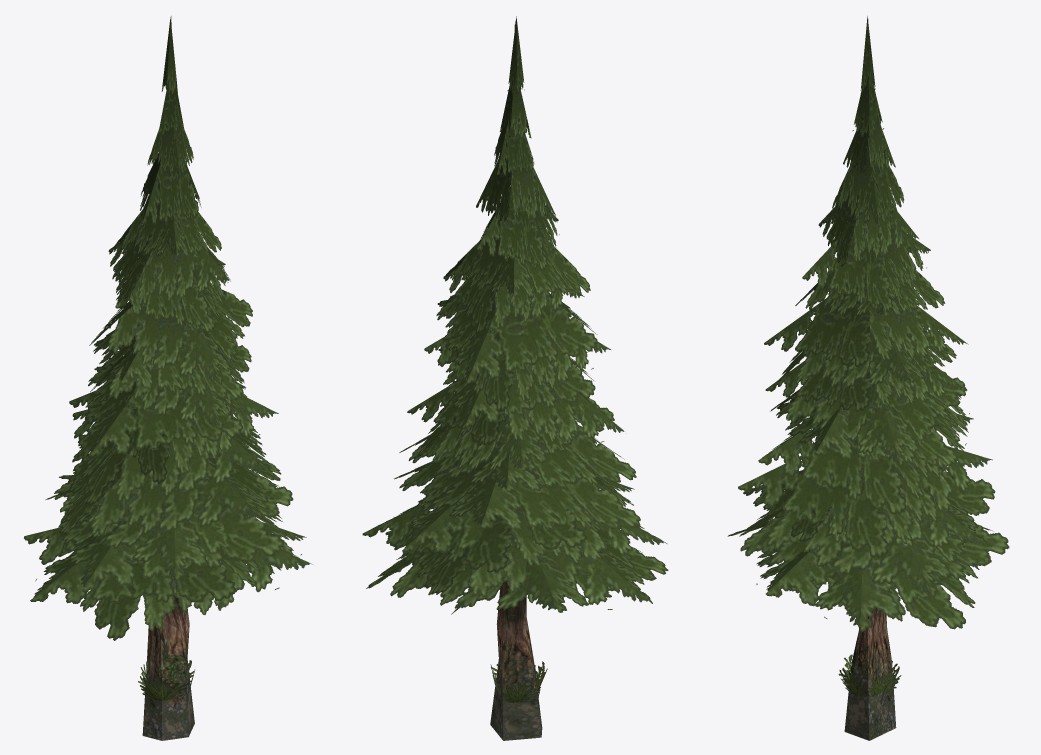
The model's file is C1SNPNB.obj.
3 renders of one model, left to right at view 1: azimuth 30°, elevation 25°; view 2: azimuth 150°, elevation 25°; view 3: azimuth 270°, elevation 25°, orthographic.
Visible parts, largest first — view 1: Node 0; view 2: Node 0; view 3: Node 0.
Boxes of the visible parts, x1,y1,x2,y2 form: Node 0: [24, 16, 312, 740]; Node 0: [362, 16, 668, 740]; Node 0: [727, 16, 1009, 740].
Size of the model in its own units: 12.27 by 28.88 by 11.57.
1 material, 1 textured.
